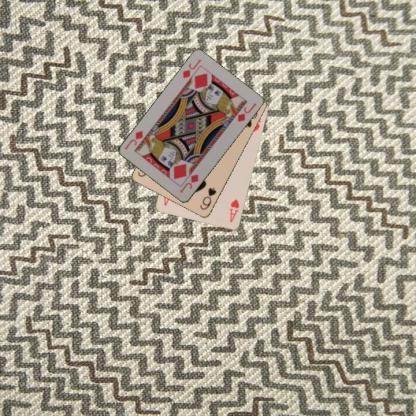6s: (198, 185, 217, 211)
Ah: (227, 196, 240, 224)
Jd: (180, 57, 203, 80), (177, 172, 200, 194)
